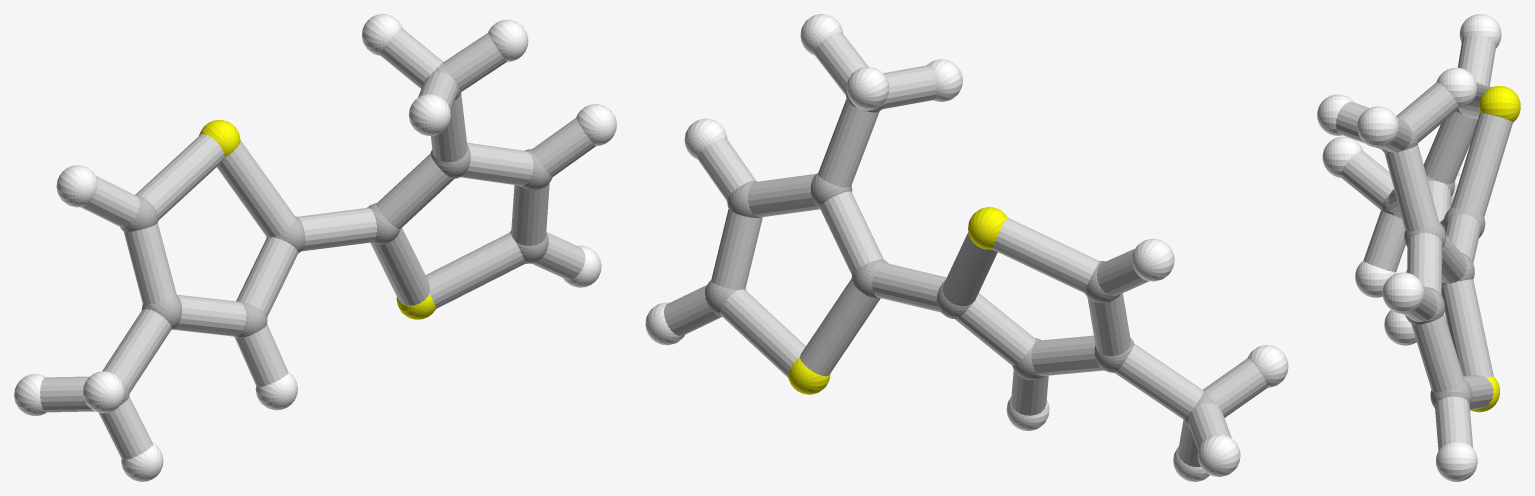
File: color.glb
3 renders of one model, left to right at view 1: azimuth 30°, elevation 25°; view 2: azimuth 150°, elevation 25°; view 3: azimuth 270°, elevation 25°, orthographic. The views are drawn at different scales.
Visible parts, largest first — view 1: grp7965, grp3621, grp1, grp7241; view 2: grp7965, grp3621, grp1, grp7241; view 3: grp7965, grp3621, grp1, grp7241.
Boxes of the visible parts, bbox=[...] form: grp7965: bbox=[40, 28, 595, 459]; grp3621: bbox=[14, 14, 616, 481]; grp1: bbox=[120, 63, 552, 404]; grp7241: bbox=[199, 120, 435, 319]; grp7965: bbox=[663, 32, 1267, 467]; grp3621: bbox=[645, 14, 1288, 481]; grp1: bbox=[705, 91, 1216, 427]; grp7241: bbox=[788, 207, 1007, 394]; grp7965: bbox=[1336, 35, 1512, 450]; grp3621: bbox=[1317, 14, 1501, 481]; grp1: bbox=[1380, 82, 1485, 407]; grp7241: bbox=[1471, 86, 1520, 412].
Bounding box in the file's own units: 9.52 × 5.77 × 2.92.
